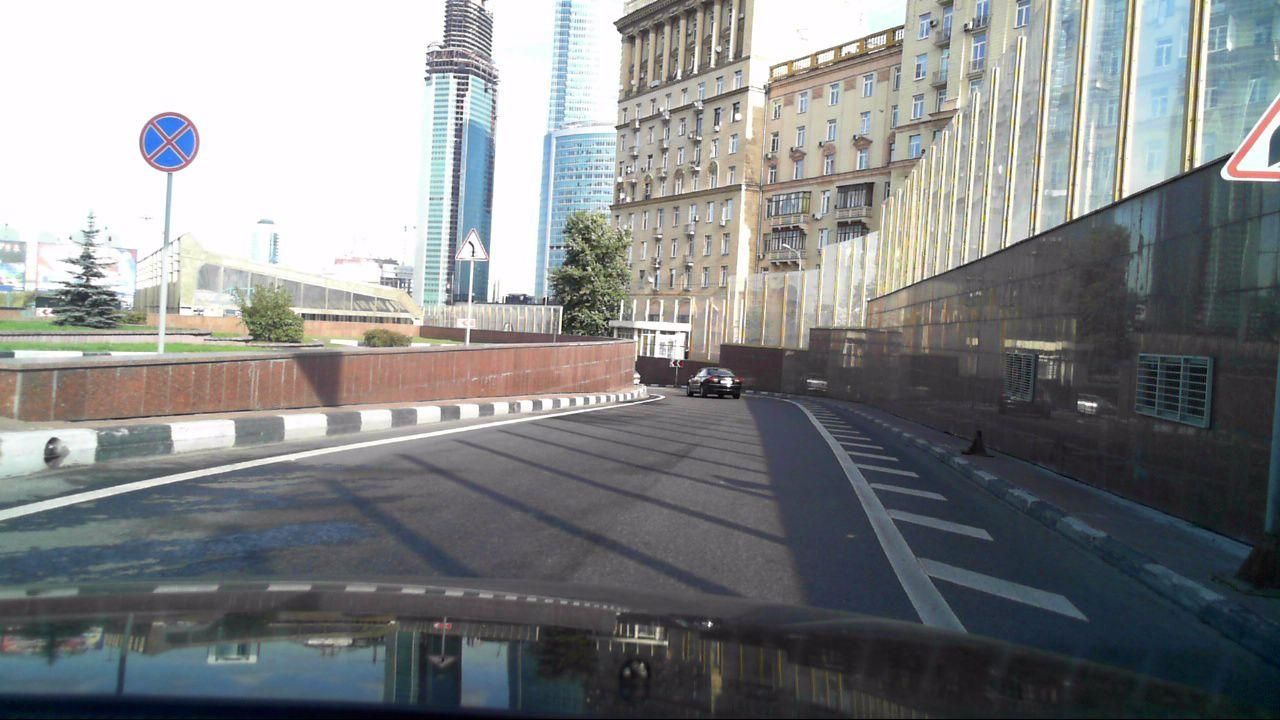1_11_2: (453, 228, 491, 262)
1_31: (1217, 88, 1280, 186)
3_27: (139, 112, 200, 171)
